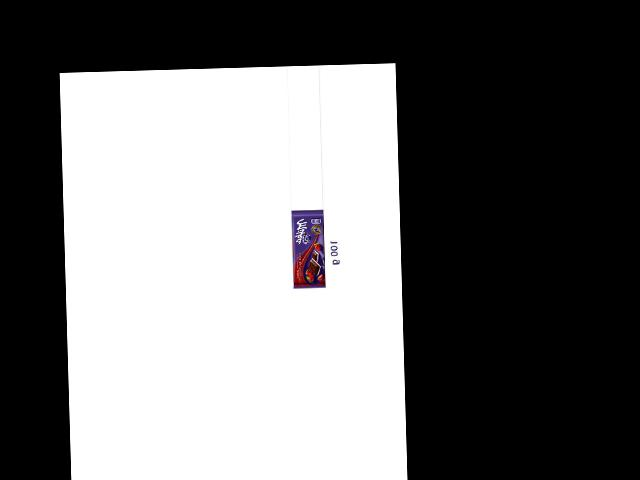chocolate: (291, 209, 329, 289)
